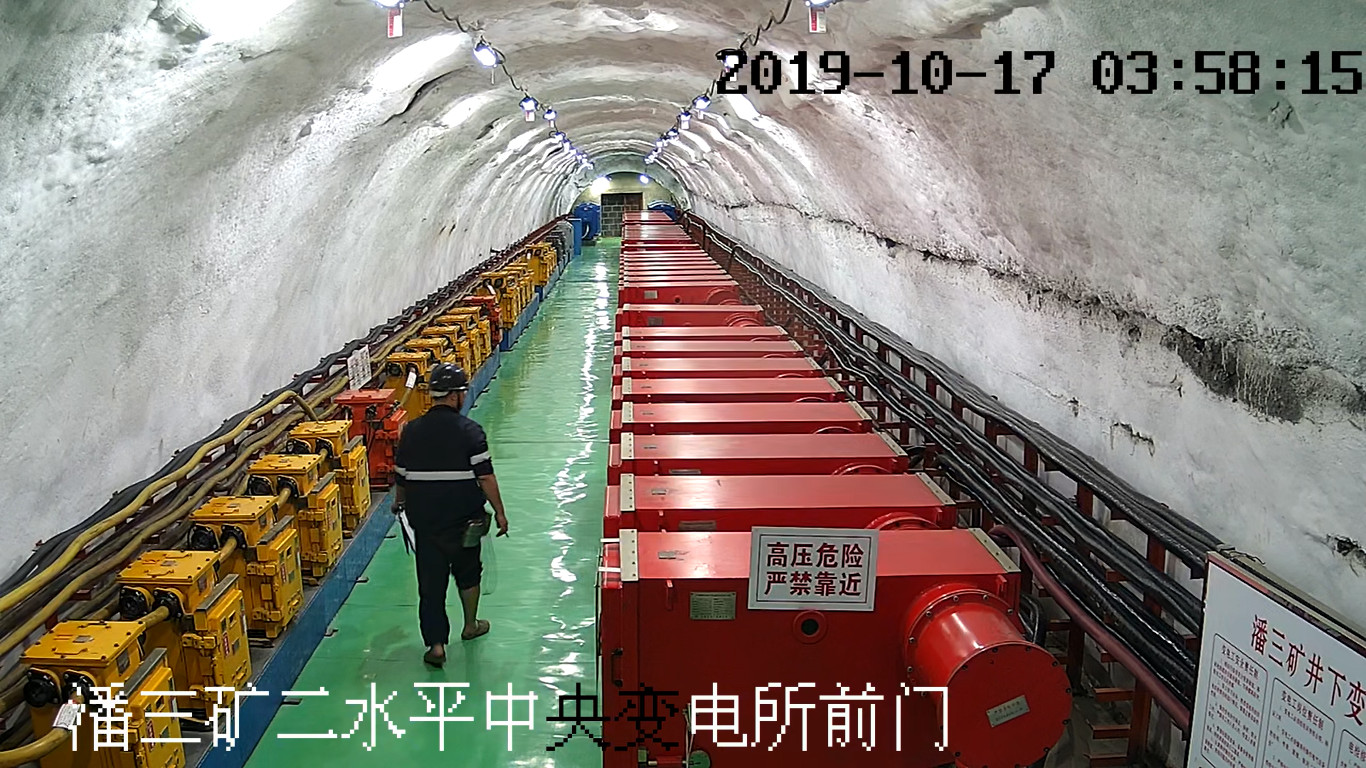helmet: (428, 362, 468, 391)
